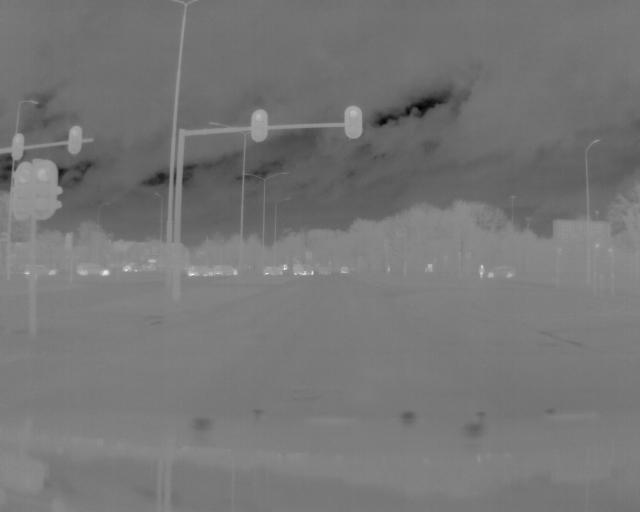car: (76, 258, 112, 281), (487, 265, 517, 282), (293, 261, 317, 280), (189, 264, 214, 277)
person: (479, 262, 485, 282)
